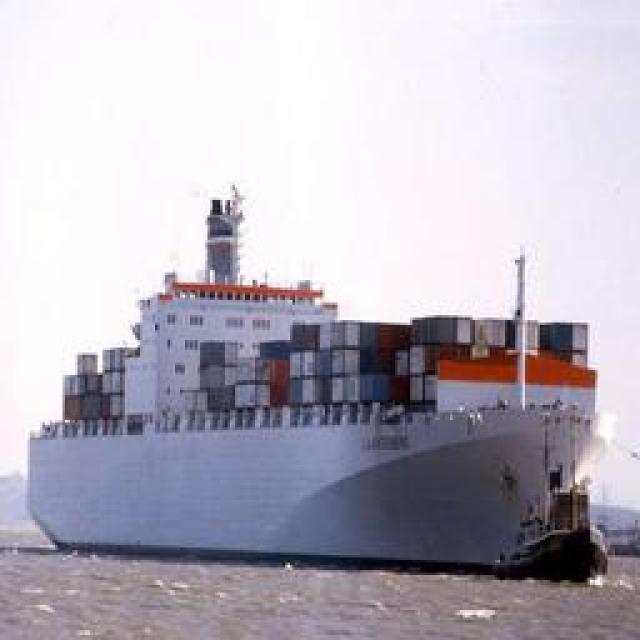ship2: (28, 195, 609, 584)
